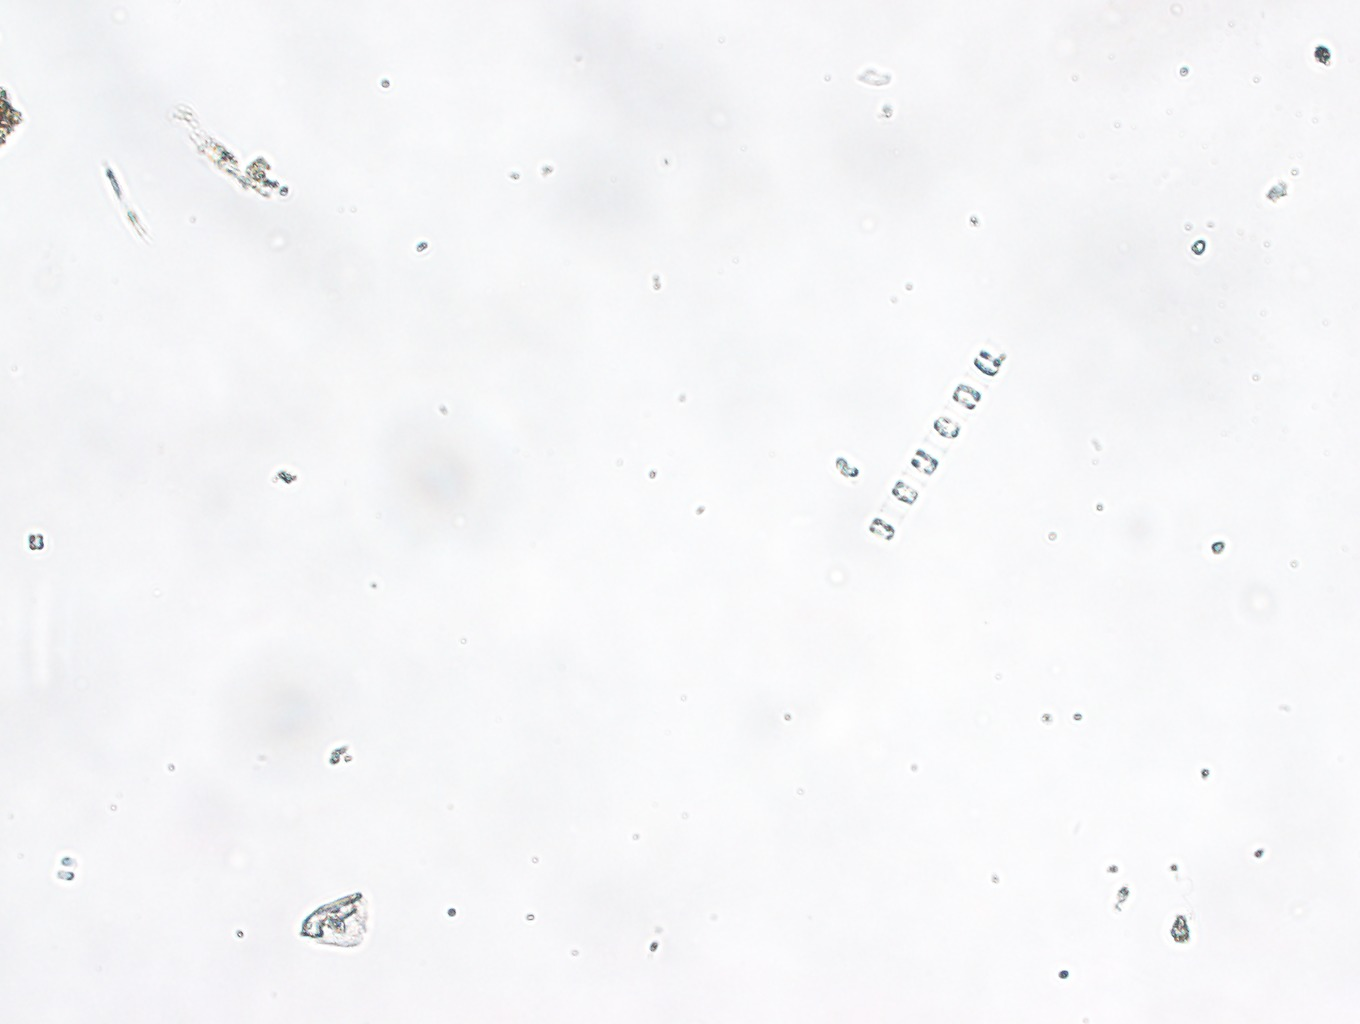skeletonema: (868, 340, 1008, 543)
